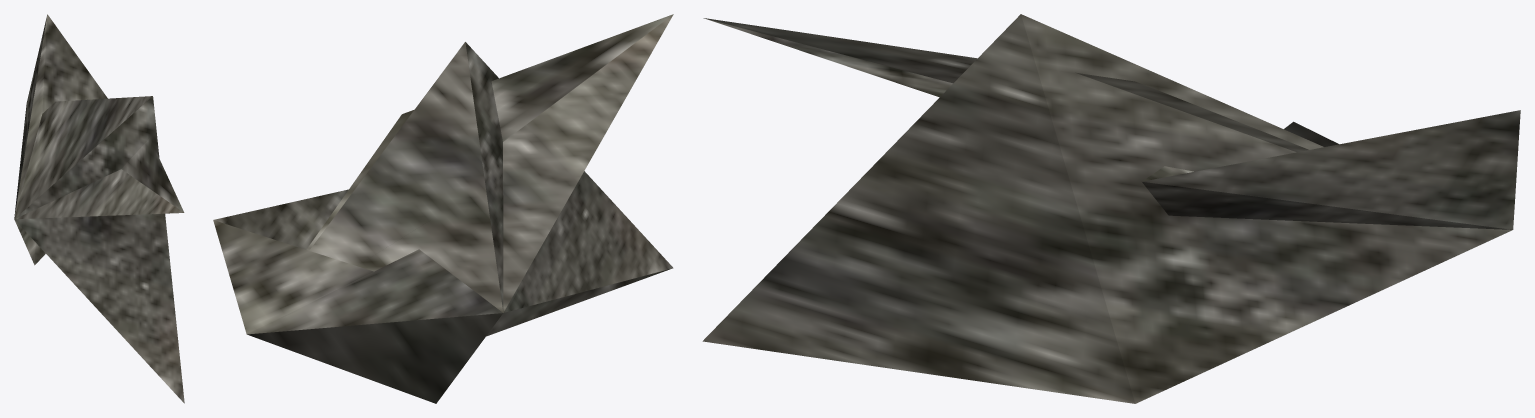
File: Meteo05.glb
3 views of the same model, side by side, from view 1: azimuth 30°, elevation 25°; view 2: azimuth 150°, elevation 25°; view 3: azimuth 270°, elevation 25° (orthographic). The views are drawn at different scales.
Parts seen in each view (by area): view 1: model_Meteo05; view 2: model_Meteo05; view 3: model_Meteo05.
Part boxes in pixels (x1,y1,x2,y2): model_Meteo05: (14,14,184,403); model_Meteo05: (213,14,673,403); model_Meteo05: (702,14,1520,403).
Bounding box in the file's own units: 0.1741 × 0.2965 × 0.5802.
1 material, 1 textured.
